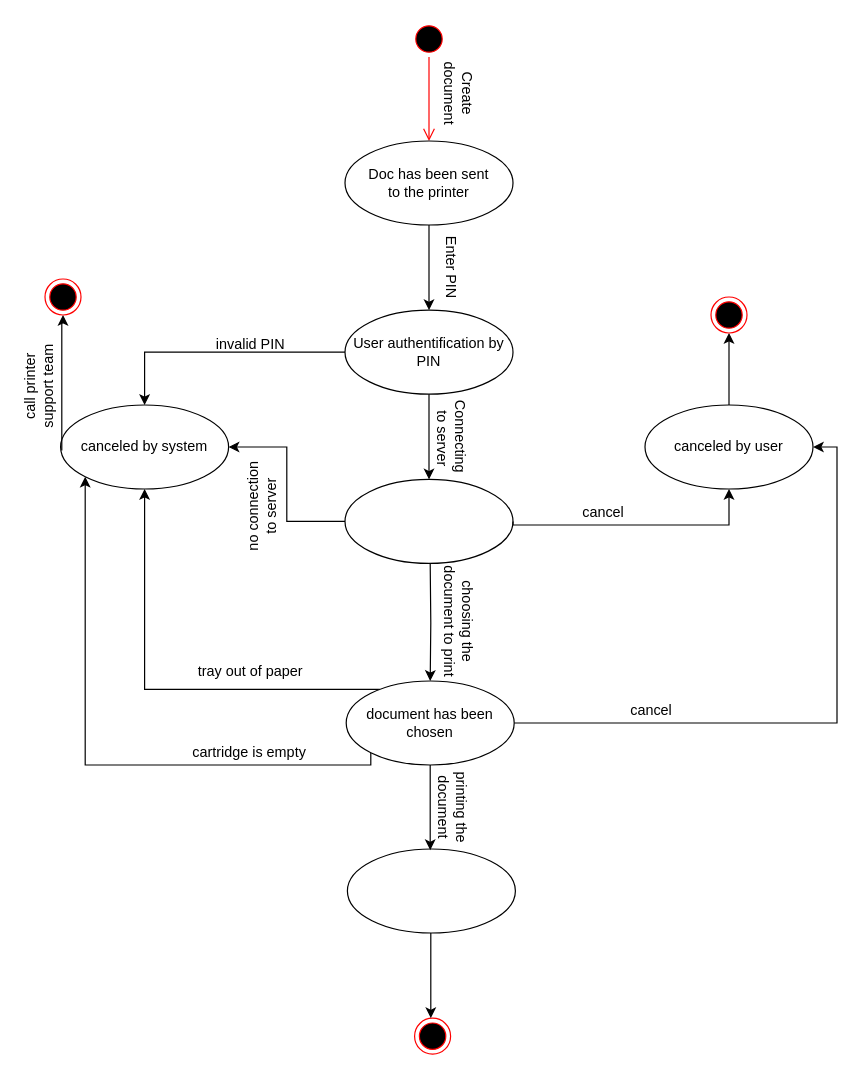
Some shapes in this 868 by 1075 pixel diagram are drawn without their labels. Each missing label, with the centre of its shape:
"document is printed" goes at (x=430, y=890).
"Printer is connected to server" goes at (x=428, y=520).
